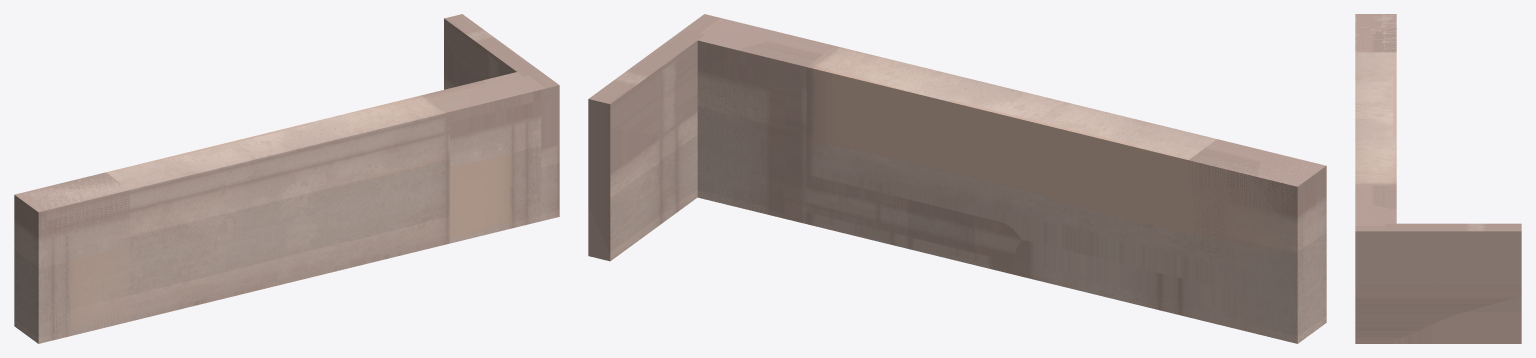
File: SM_Modules_Sockets_v02.fbx
3 views of the same model, side by side, from view 1: azimuth 30°, elevation 25°; view 2: azimuth 150°, elevation 25°; view 3: azimuth 270°, elevation 25° (orthographic). The views are drawn at different scales.
Visible parts, largest first — view 1: Modulo_Zocalo, Modulo_Zocalo_Arco, Modulo_Zocalo_Costado; view 2: Modulo_Zocalo, Modulo_Zocalo_Arco, Modulo_Zocalo_Costado; view 3: Modulo_Zocalo_Costado, Modulo_Zocalo, Modulo_Zocalo_Arco.
Boxes of the visible parts, x1,y1,x2,y2 form: Modulo_Zocalo: [14, 73, 541, 343]; Modulo_Zocalo_Arco: [14, 72, 541, 343]; Modulo_Zocalo_Costado: [444, 14, 559, 221]; Modulo_Zocalo: [697, 20, 1326, 343]; Modulo_Zocalo_Arco: [697, 19, 1326, 343]; Modulo_Zocalo_Costado: [588, 14, 725, 261]; Modulo_Zocalo_Costado: [1355, 223, 1521, 343]; Modulo_Zocalo: [1355, 14, 1396, 223]; Modulo_Zocalo_Arco: [1355, 14, 1396, 223].
Size of the model in its own units: 2.07 by 0.5 by 0.6696.
